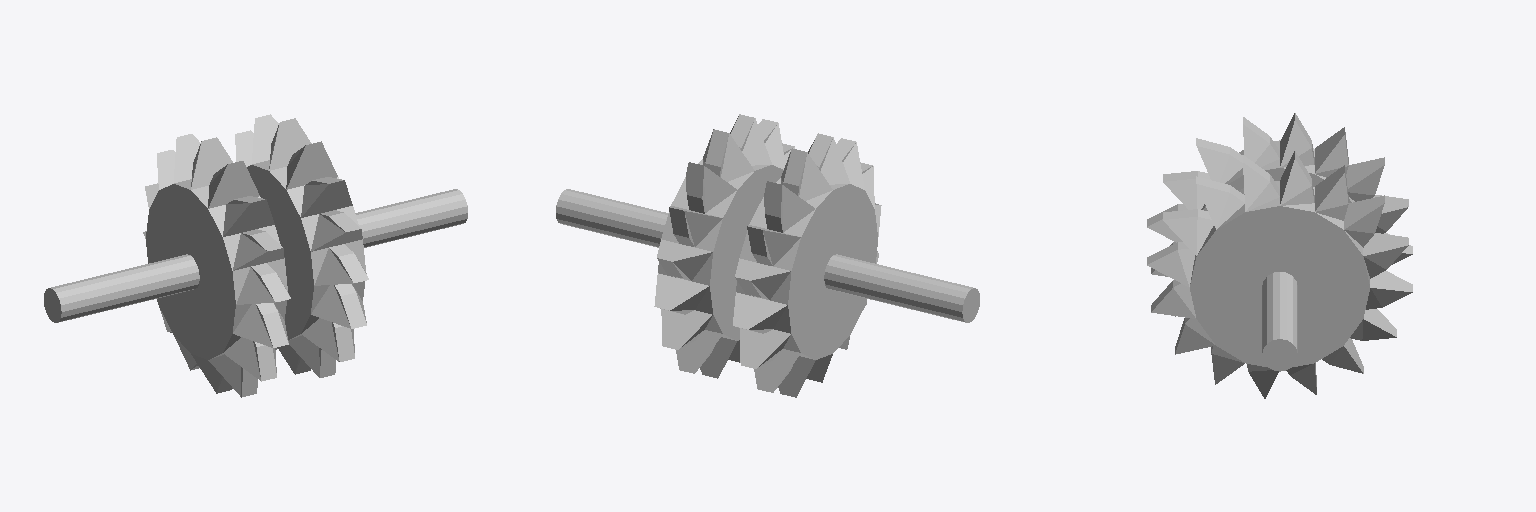
Rendered from Crusher.obj.
3 renders of one model, left to right at view 1: azimuth 30°, elevation 25°; view 2: azimuth 150°, elevation 25°; view 3: azimuth 270°, elevation 25°, orthographic.
Parts seen in each view (by area): view 1: Cylinder.001; view 2: Cylinder.001; view 3: Cylinder.001.
Part boxes in pixels (x1,y1,x2,y2): Cylinder.001: (44, 114, 467, 397); Cylinder.001: (556, 114, 979, 397); Cylinder.001: (1147, 113, 1412, 398).
Bounding box in the file's own units: 1.56 × 0.8858 × 0.8858.